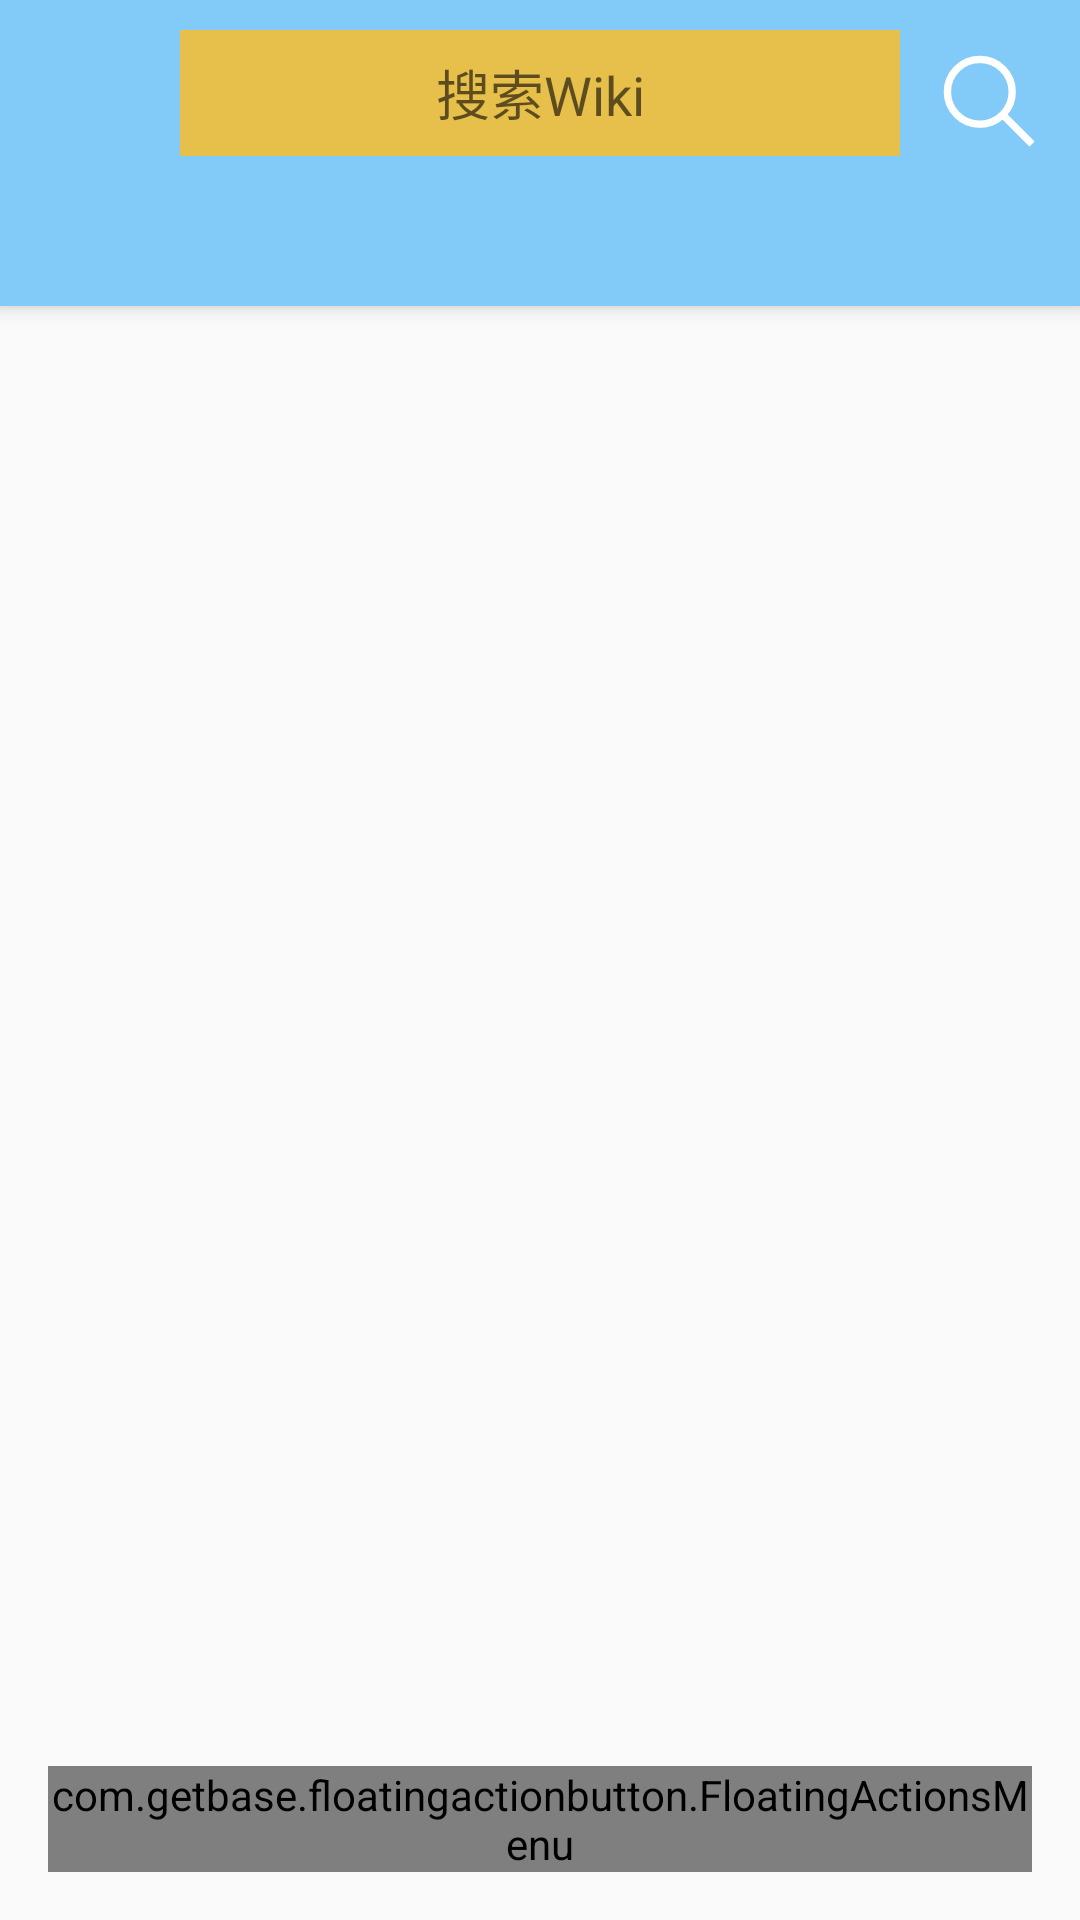

Where to tap for icons on this 1080×1920 app screen, as (x=x, y=y):
search: (x=989, y=101)
